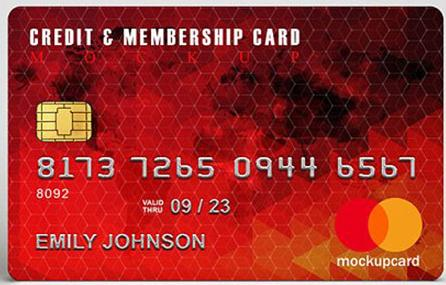payment_card: (8, 5, 445, 283)
